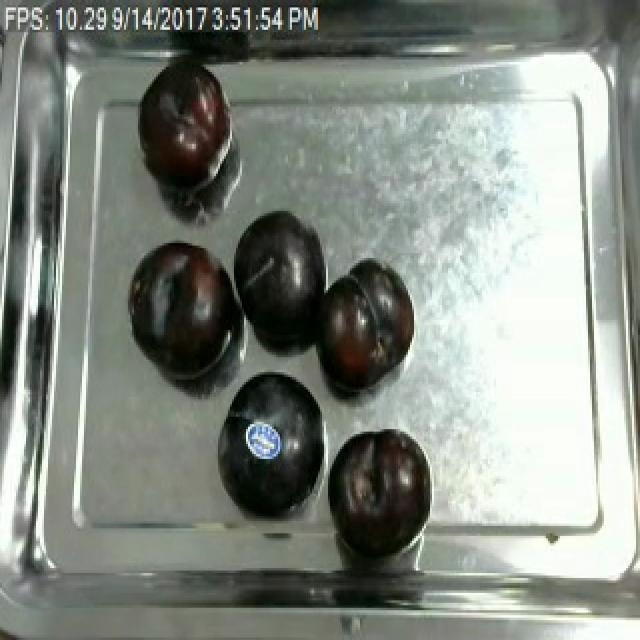Fruit: (210, 362, 330, 521), (132, 233, 242, 385), (228, 203, 328, 355), (312, 256, 414, 400), (132, 57, 234, 199), (326, 422, 432, 553)
